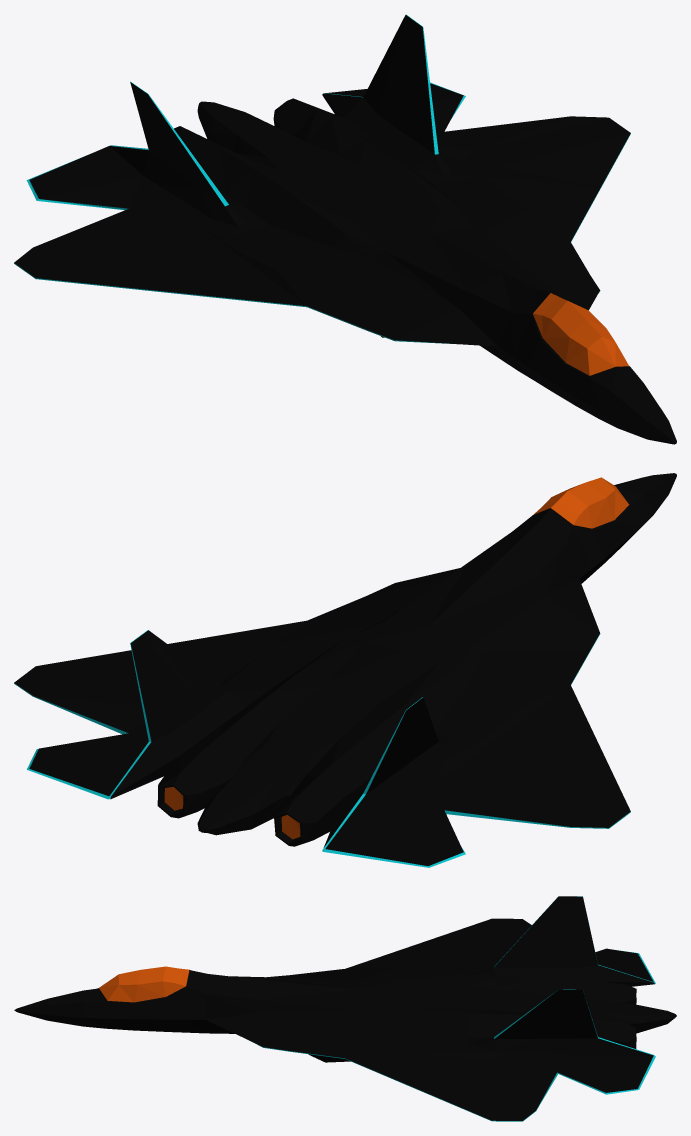
The model's file is actual.obj.
The picture shows the model from 3 angles, top to bottom: view 1: azimuth 30°, elevation 25°; view 2: azimuth 150°, elevation 25°; view 3: azimuth 270°, elevation 25°; orthographic projection. The views are drawn at different scales.
Size of the model in its own units: 6.75 by 1.53 by 9.35.
